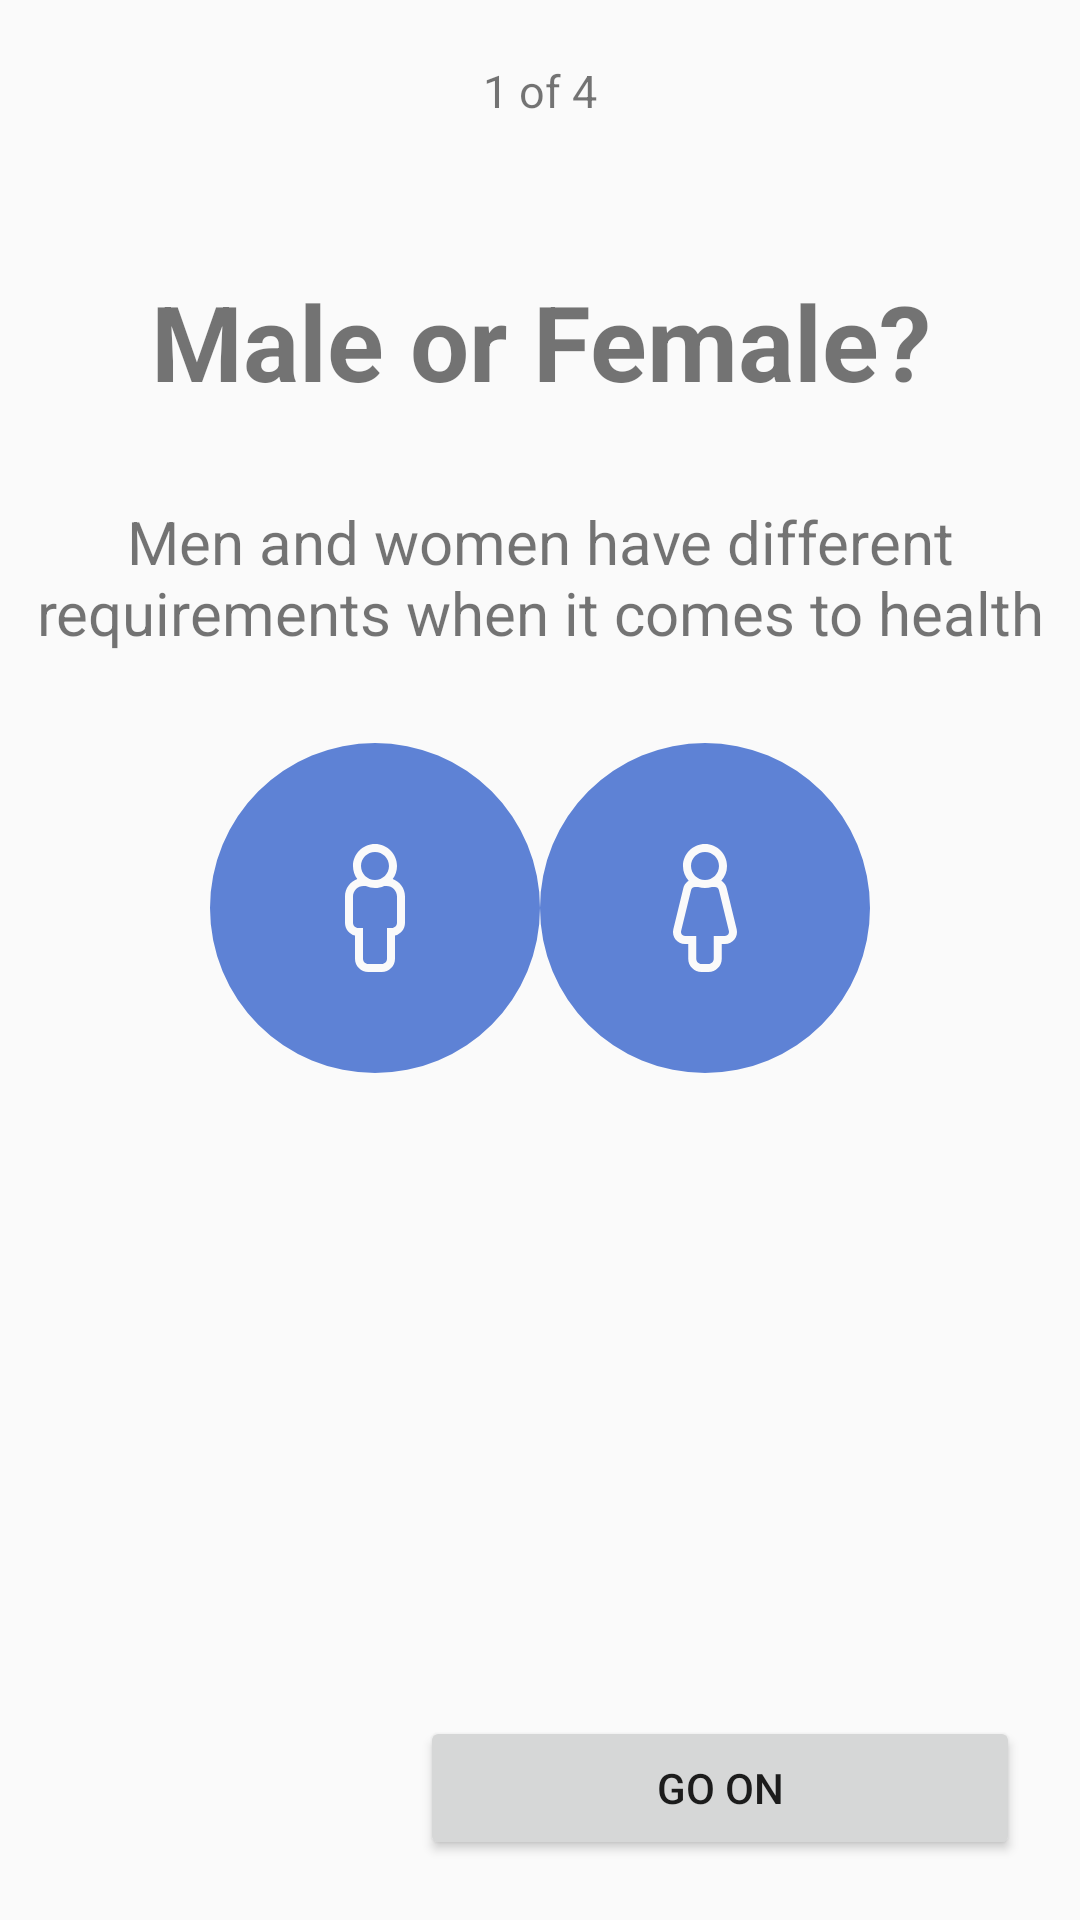

Locate icon controls on the screen. Image size 1080w x 1920h, boxes as (x1, y1, x2, y2).
Female: (540, 743, 870, 1073)
Male: (210, 743, 540, 1073)
